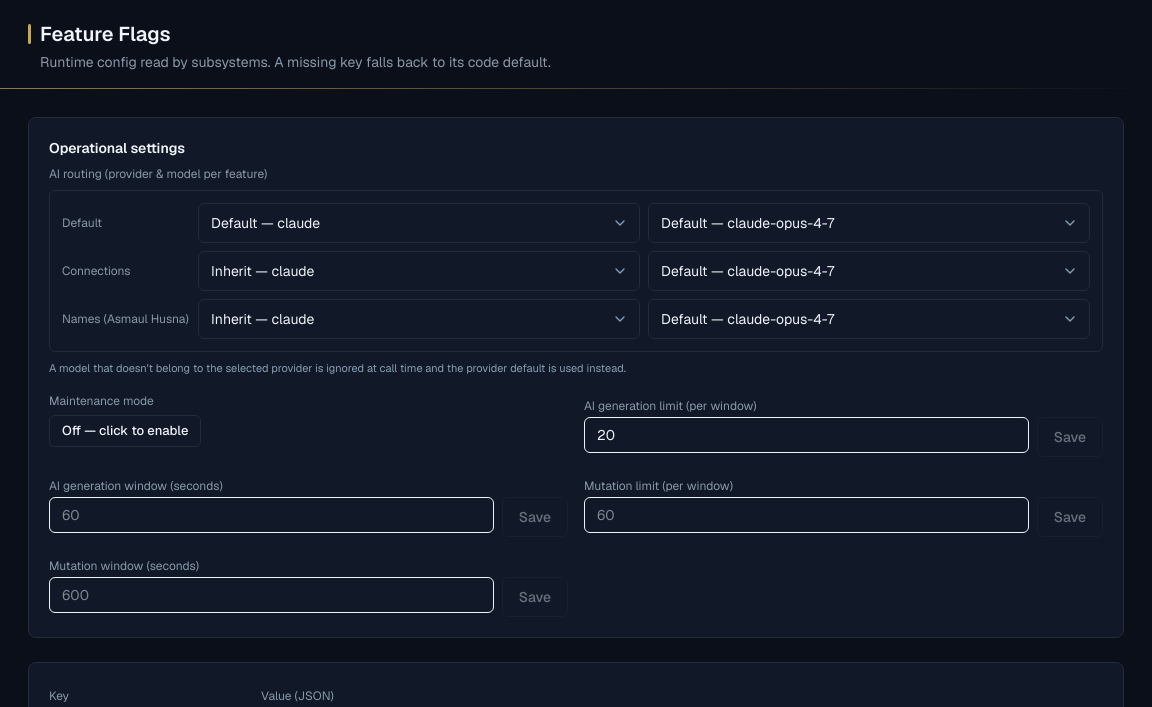
Test: FlagsPage — operational settings › keeps a number setting's Save disabled until the value changes, then saves a positive number
Expected: the 1st button "Save" is disabled, [1037, 416, 1103, 456]
In the number field labelled "AI generation limit (per window)": coordinates (806, 434) [584, 416, 1029, 452], type "45"
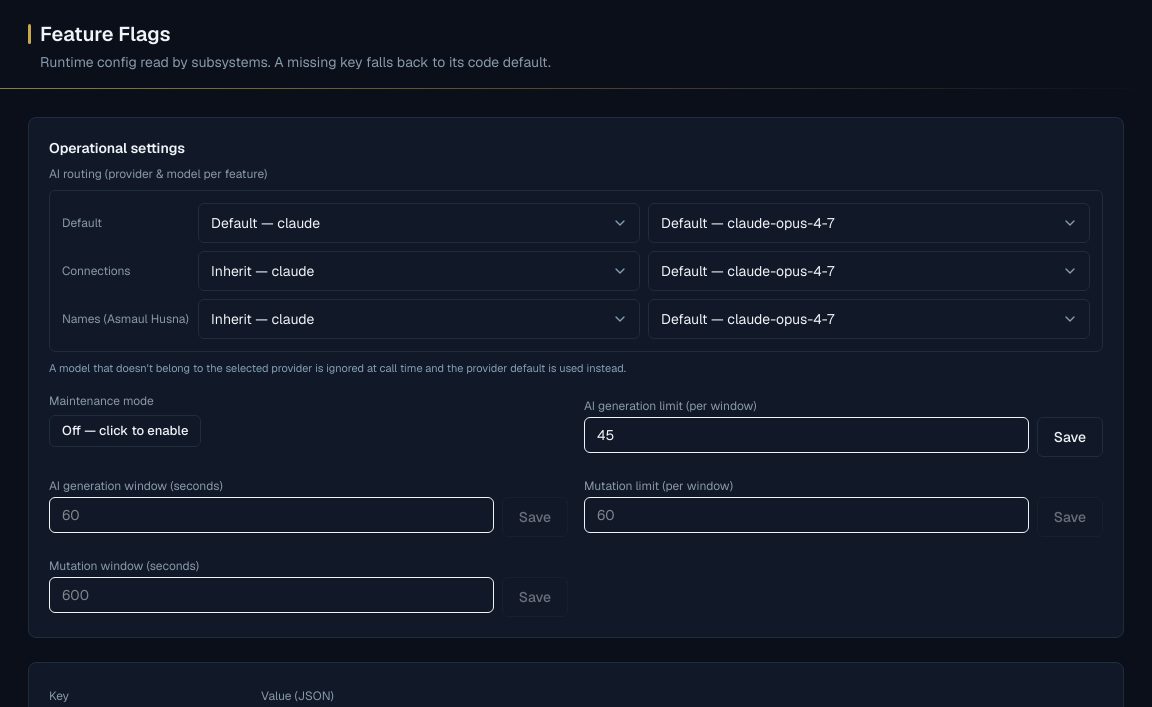
Now the 1st button "Save" is enabled
Click the 1st button "Save": coordinates (1070, 436) [1037, 416, 1103, 456]
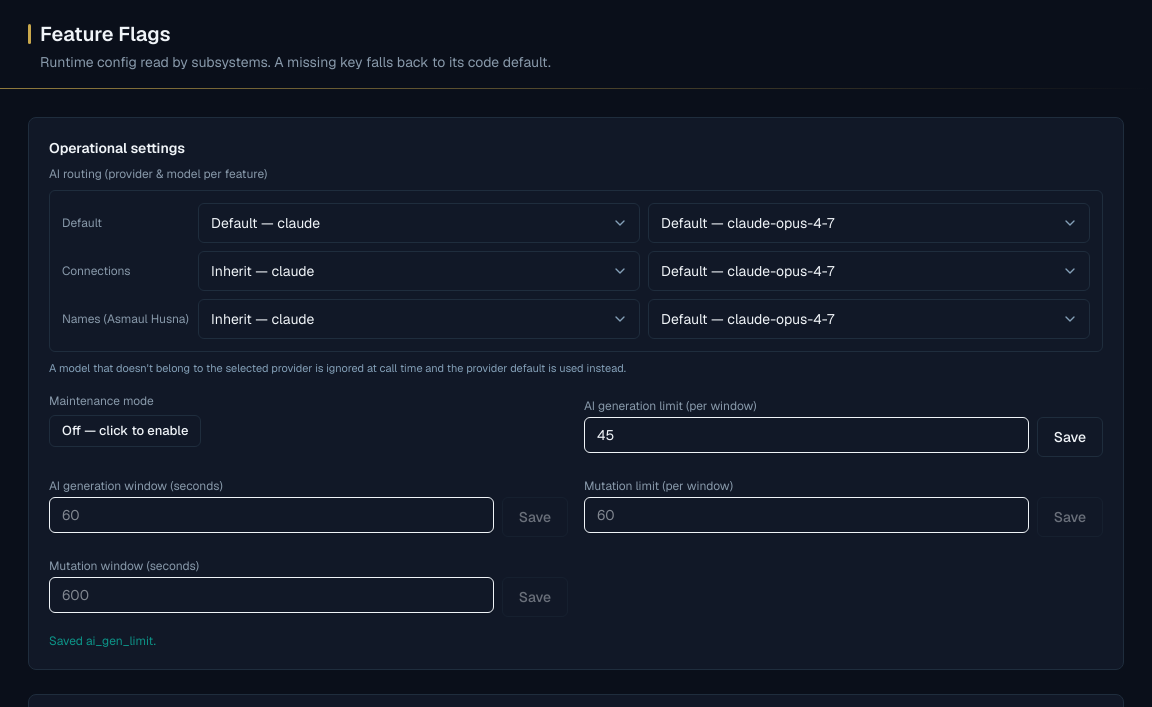
Now the text "Saved ai_gen_limit." is shown, box [49, 632, 156, 648]
